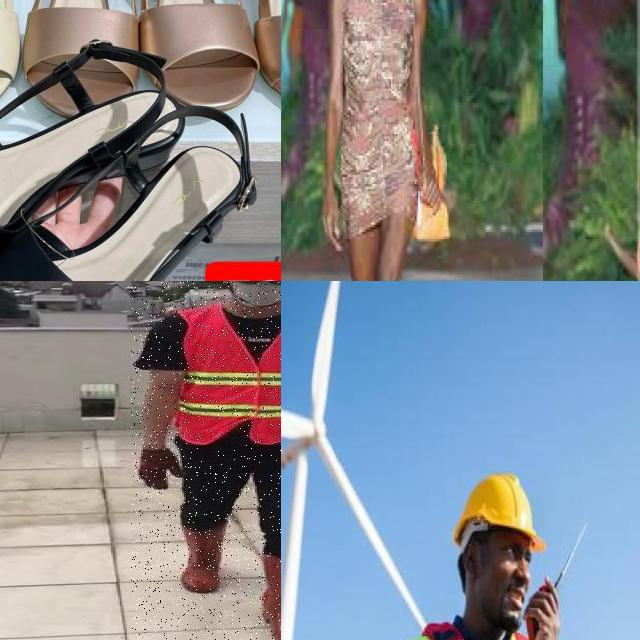Sandals: (0, 41, 274, 281), (7, 0, 264, 118)
boots: (180, 520, 227, 594), (260, 555, 281, 640)
hand_noglove: (317, 184, 347, 251), (417, 161, 448, 214), (631, 225, 640, 281)
person: (131, 281, 281, 640), (320, 0, 443, 281)
vest: (176, 309, 281, 447)
